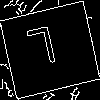L: (24, 25, 61, 77)
